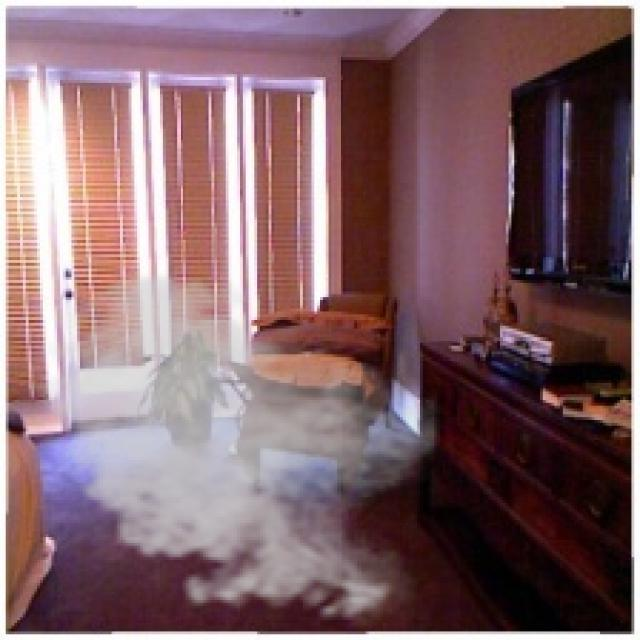Smoke: (26, 266, 440, 632)
